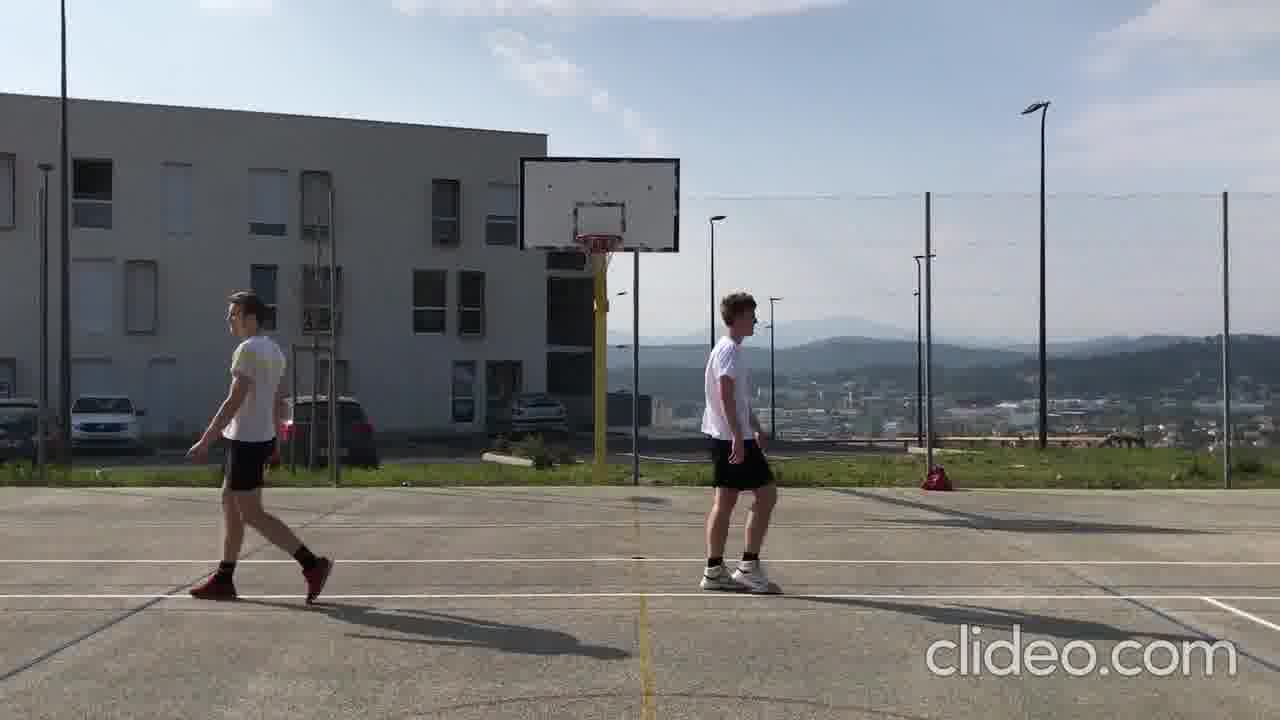jugador: (168, 279, 347, 618)
